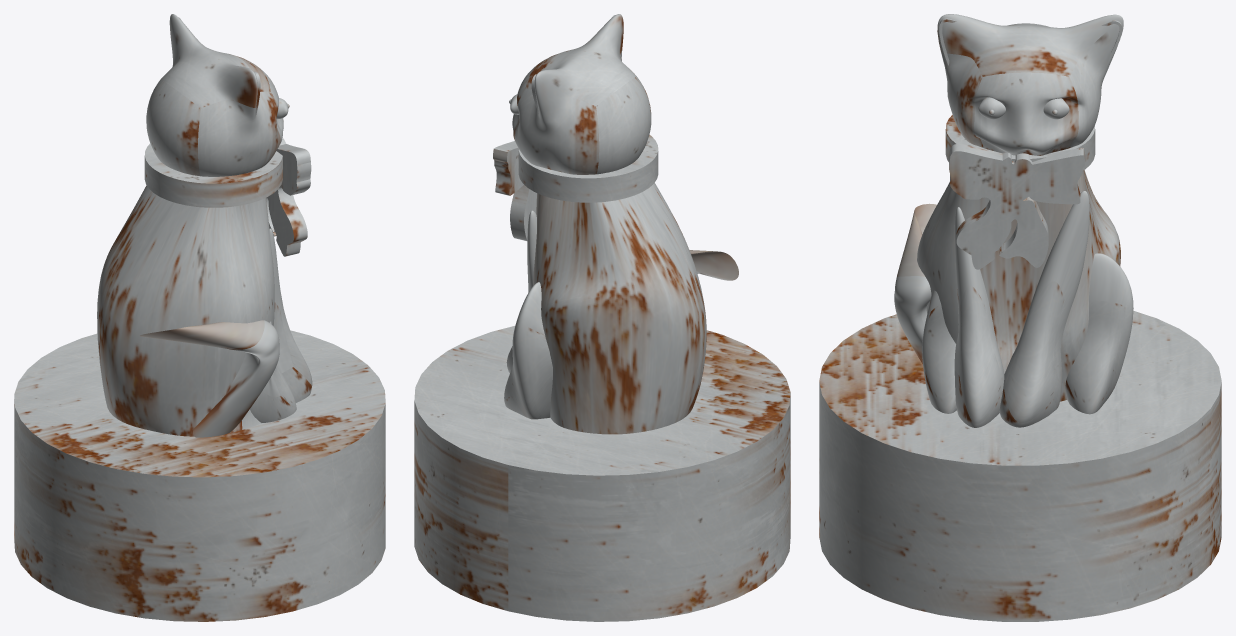
Rendered from nikitakot.gltf.
3 renders of one model, left to right at view 1: azimuth 30°, elevation 25°; view 2: azimuth 150°, elevation 25°; view 3: azimuth 270°, elevation 25°, orthographic. The views are drawn at different scales.
Visible parts, largest first — view 1: KOT v6; view 2: KOT v6; view 3: KOT v6.
Boxes of the visible parts, x1,y1,x2,y2 form: KOT v6: (14, 14, 385, 621); KOT v6: (414, 14, 790, 621); KOT v6: (819, 14, 1221, 621).
Bounding box in the file's own units: 6.98 × 10.22 × 7.
1 material, 1 textured.
